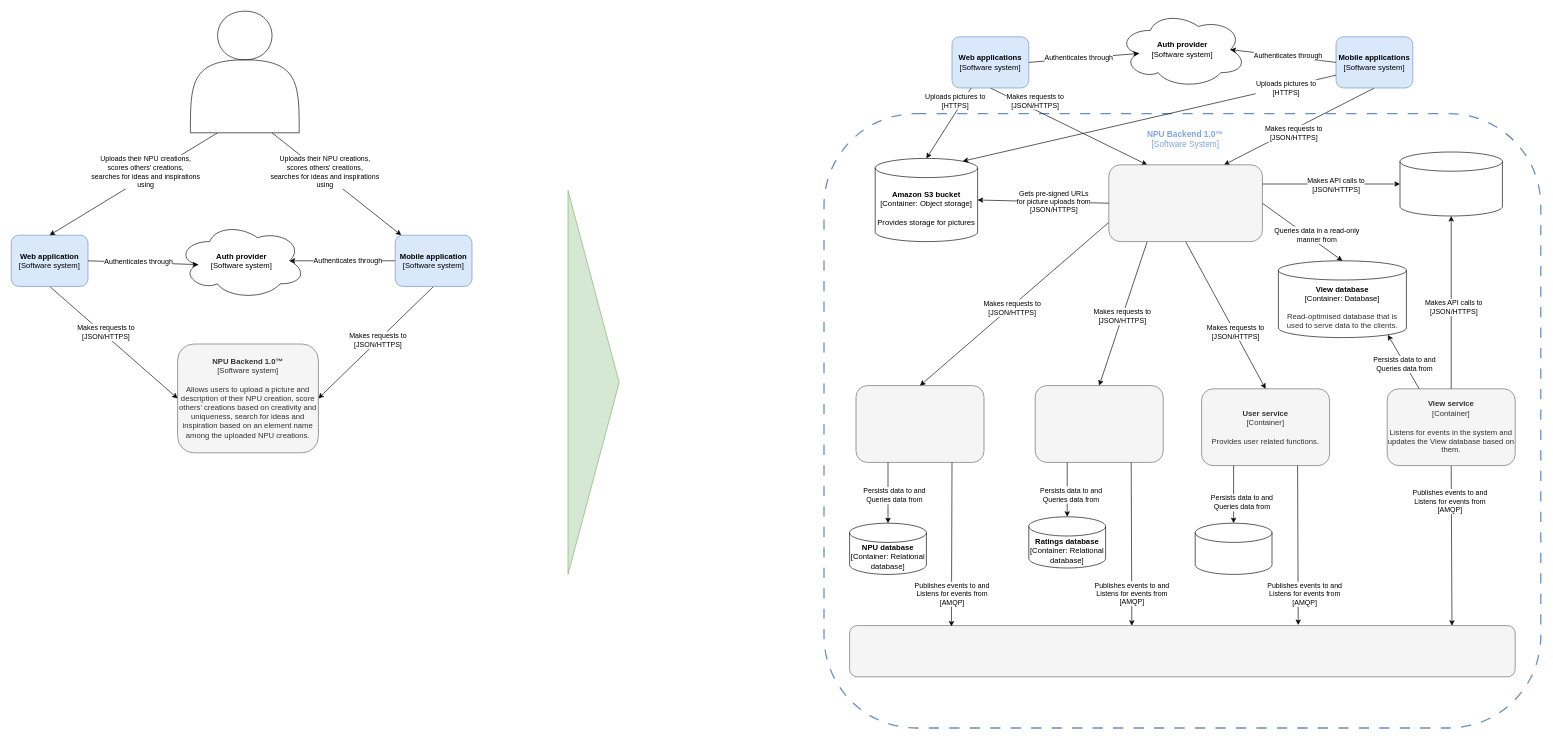
This 1553x740 diagram has some shape labels left out. Here are the shapes that lost their labels. From the top down, the centre of each, then its label:
At point (244, 72): "User [Person ]".
At point (1185, 203): "NPU API [Container] The main entry point to the system.".
At point (1450, 183): "Elastic search [Container: Search service]".
At point (919, 423): "NPU service [Container] Provides NPU related functions.".
At point (1099, 423): "Ratings service [Container] Provides rating related functions.".
At point (1233, 548): "User database [Container: Relational database]".
At point (1182, 651): "Message Broker [Container]".
